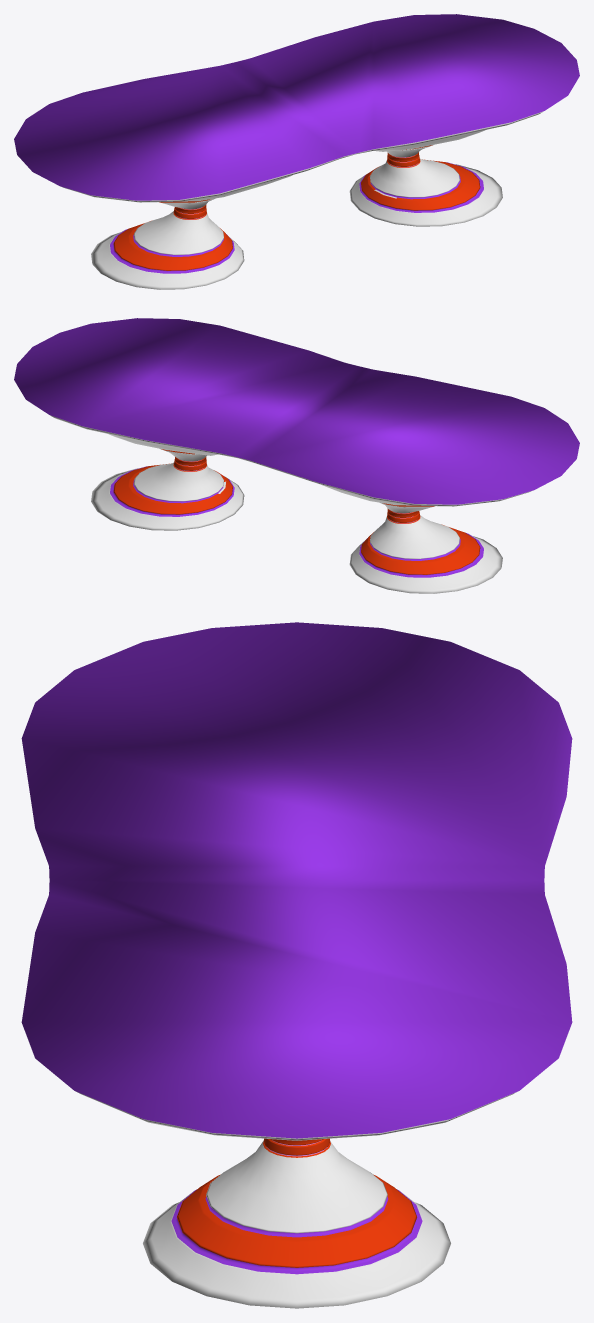
Rendered from MesaMedL1.fbx.
The picture shows the model from 3 angles, top to bottom: view 1: azimuth 30°, elevation 25°; view 2: azimuth 150°, elevation 25°; view 3: azimuth 270°, elevation 25°; orthographic projection. The views are drawn at different scales.
Parts seen in each view (by area): view 1: MesaMedL1; view 2: MesaMedL1; view 3: MesaMedL1.
Part boxes in pixels (x1,y1,x2,y2): MesaMedL1: (14,14,579,289); MesaMedL1: (14,318,579,593); MesaMedL1: (21,622,572,1308).
Size of the model in its own units: 417 by 89.1 by 188.
